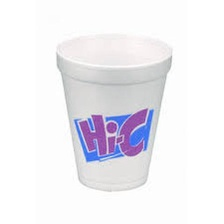paper_cup: (50, 27, 177, 195)
